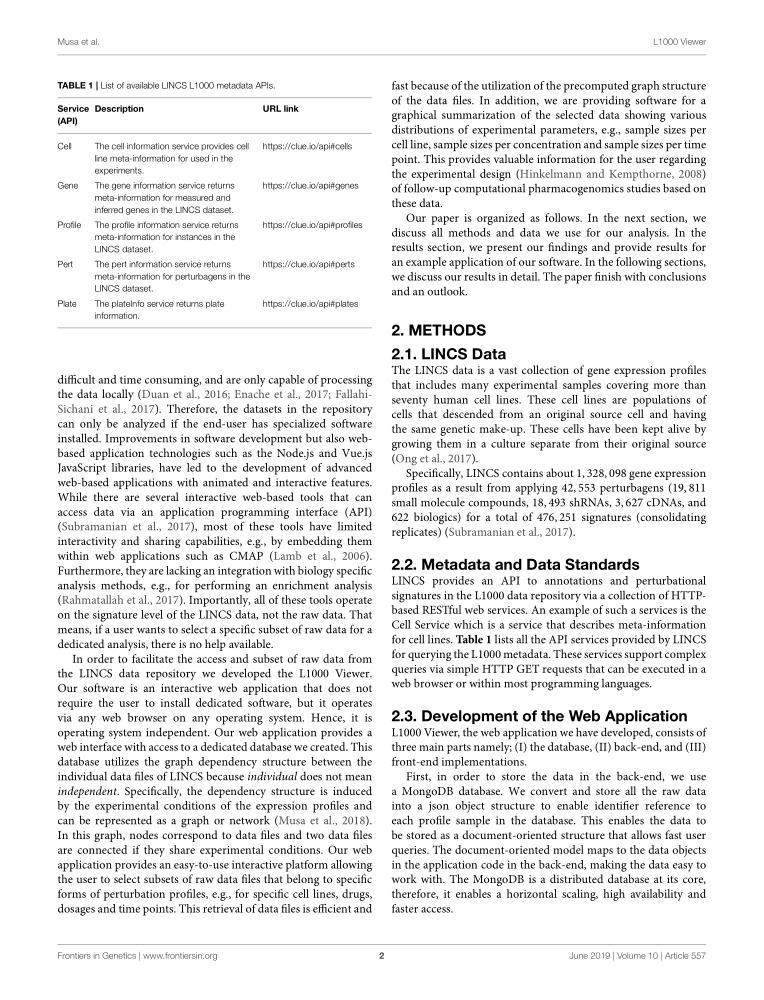table: (57, 104, 362, 320)
